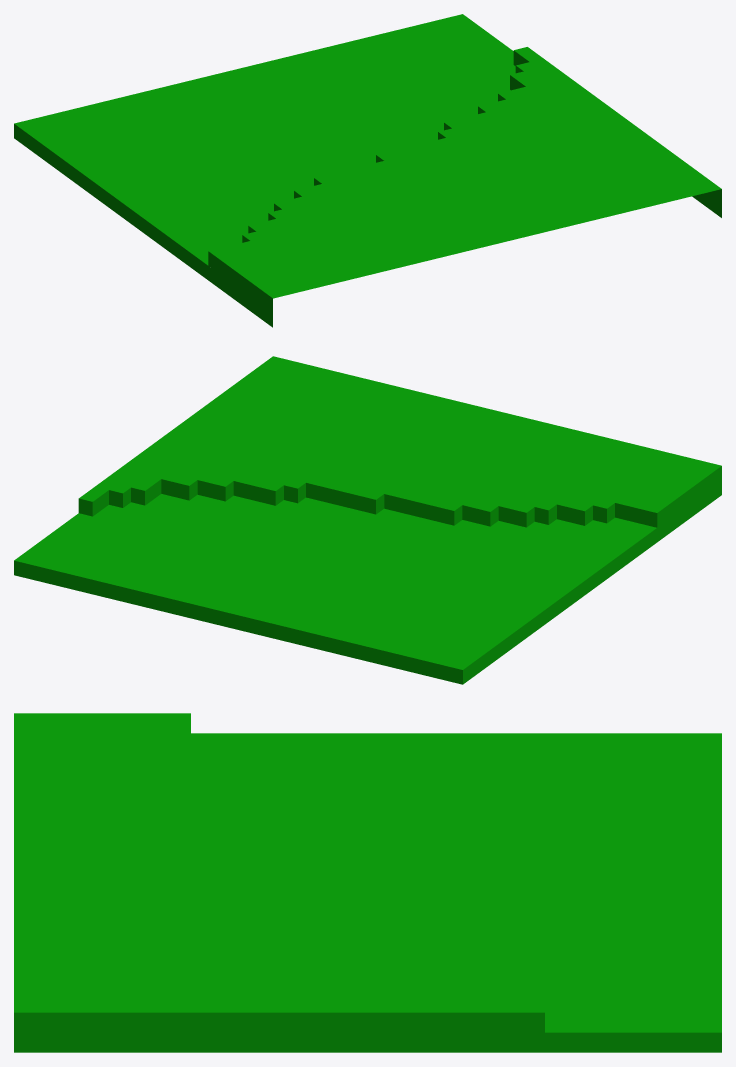
The model's file is Slant2.fbx.
3 views of the same model, one above another, from view 1: azimuth 30°, elevation 25°; view 2: azimuth 150°, elevation 25°; view 3: azimuth 270°, elevation 25° (orthographic). The views are drawn at different scales.
Parts seen in each view (by area): view 1: Matrix; view 2: Matrix; view 3: Matrix.
Boxes of the visible parts, <box> form: Matrix: <box>14,14,721,327</box>; Matrix: <box>14,356,721,684</box>; Matrix: <box>14,713,721,1052</box>.
Bounding box in the file's own units: 32 × 2 × 32.
1 material, 1 textured.
